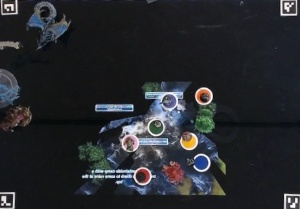blue: (190, 155, 212, 172)
green: (146, 117, 166, 135)
orange: (193, 86, 215, 104)
pink: (118, 134, 140, 152)
red: (133, 165, 157, 186)
violet: (159, 92, 180, 112)
yellow: (177, 129, 200, 149)
